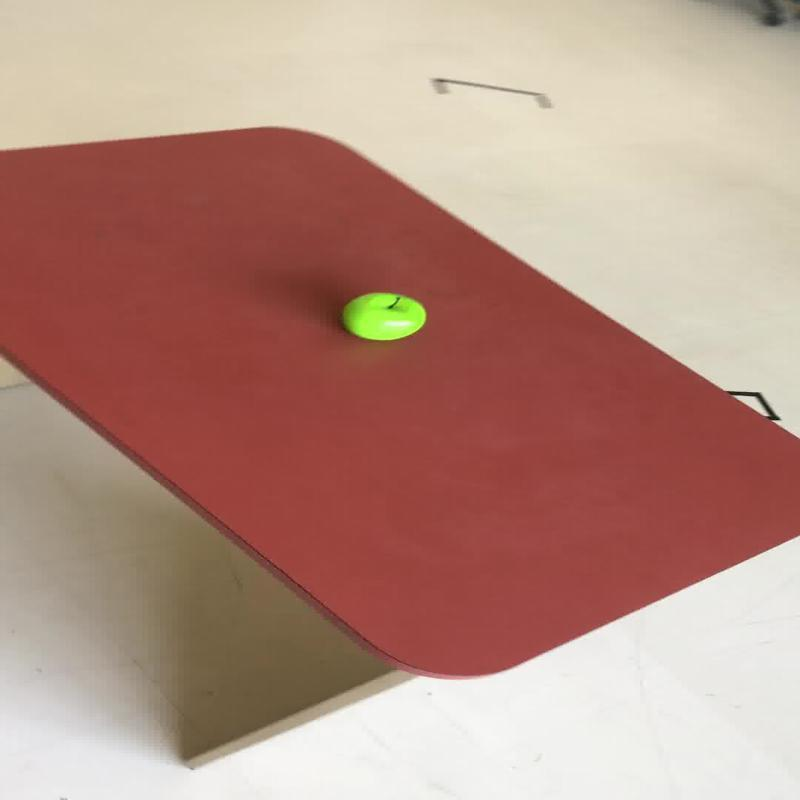apple: (340, 292, 426, 340)
